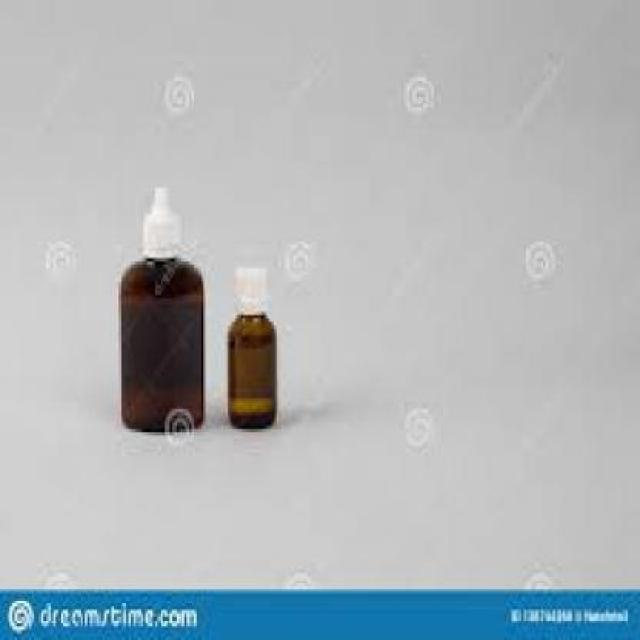kaca: (118, 254, 202, 429), (226, 312, 274, 426)
